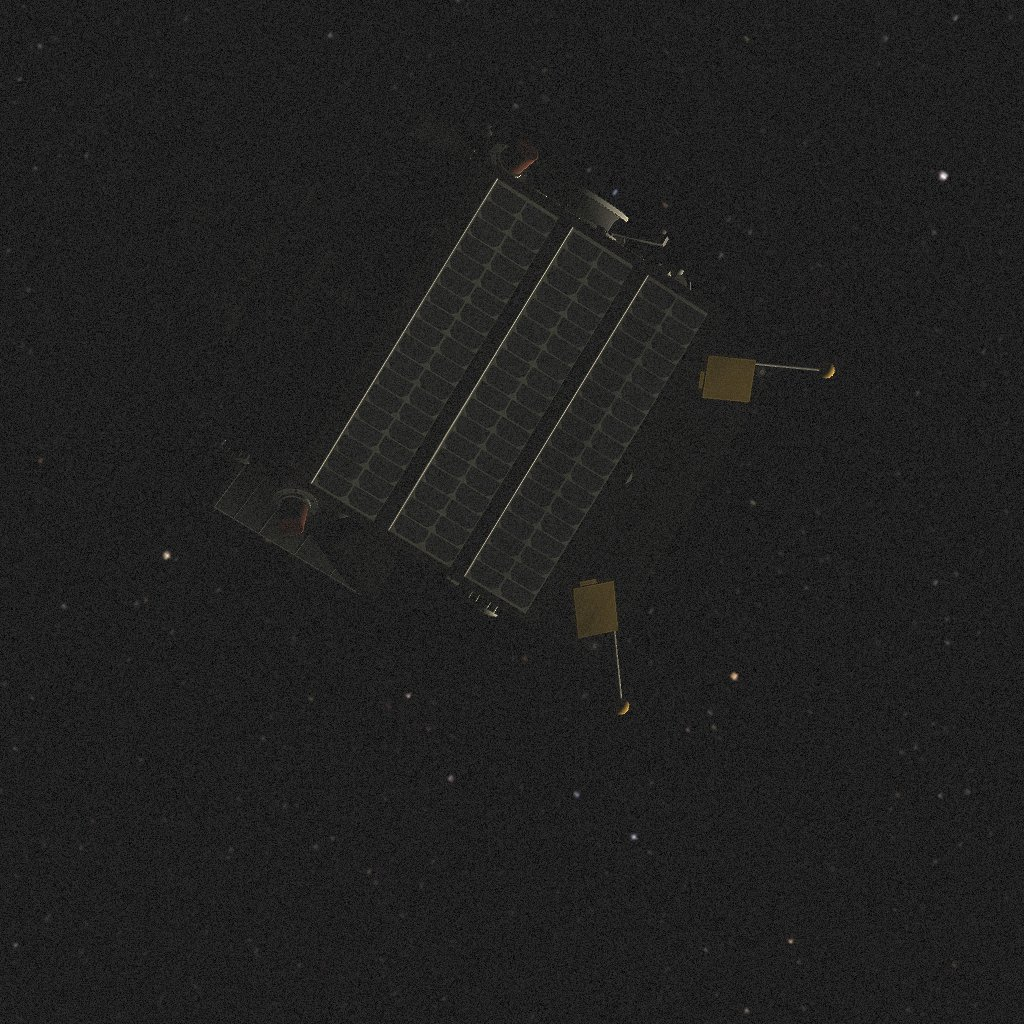proba_2: (24, 0, 835, 714)
